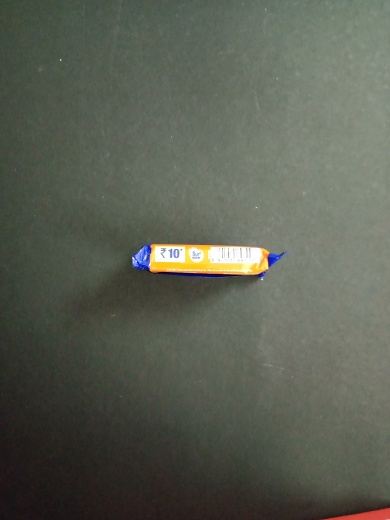rin: (123, 240, 287, 279)
